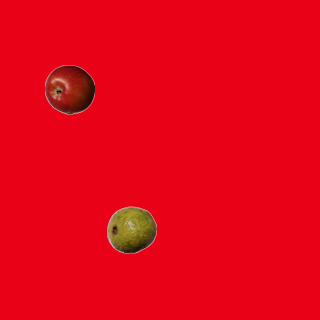Apple Braeburn: (44, 64, 94, 114)
Guava: (106, 204, 156, 254)
